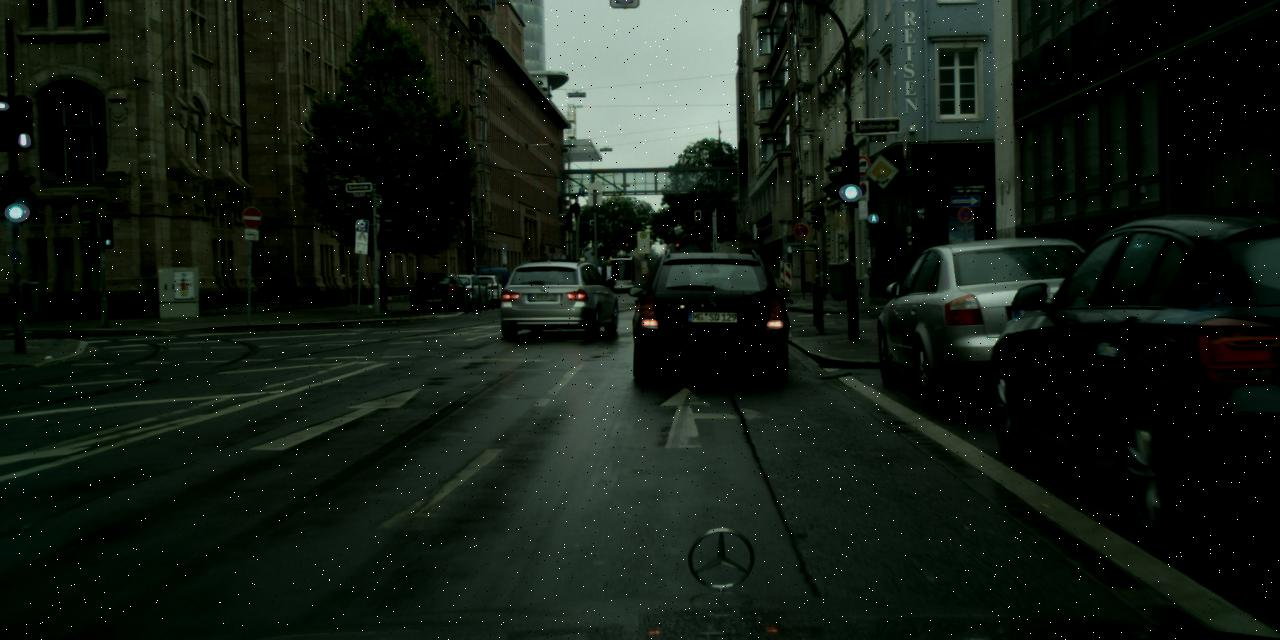ped: (600, 258, 618, 300)
